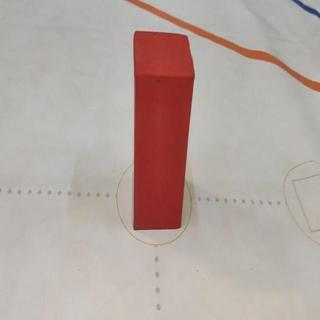redbox: (131, 29, 194, 233)
